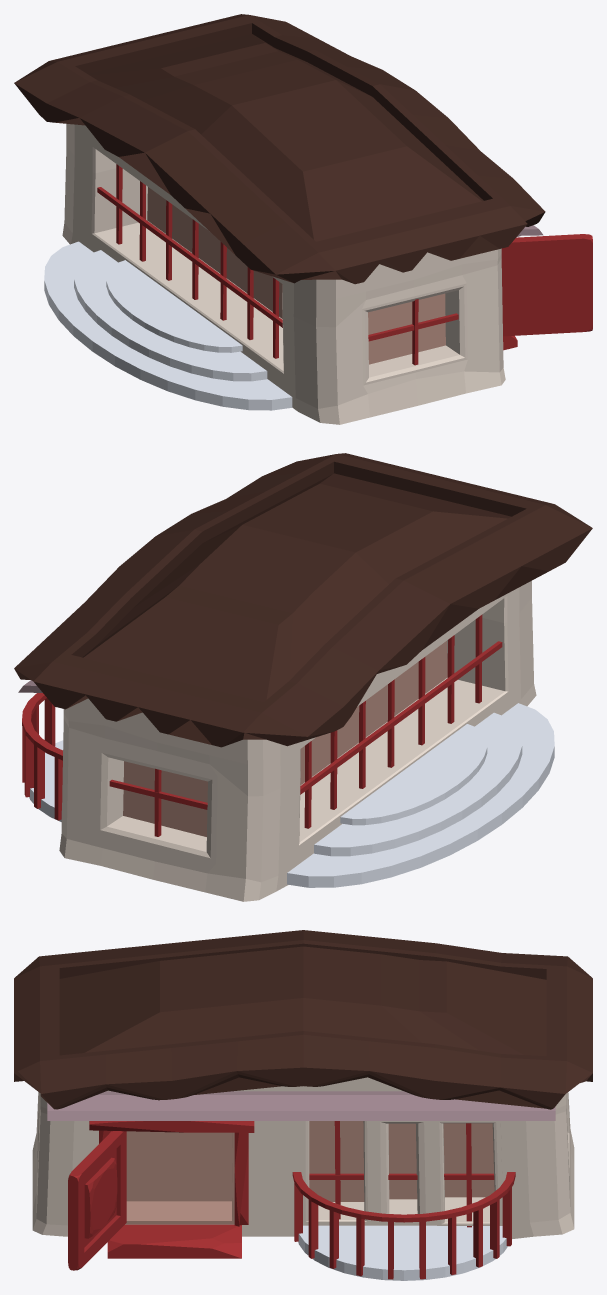
Rendered from house2.fbx.
3 views of the same model, one above another, from view 1: azimuth 30°, elevation 25°; view 2: azimuth 150°, elevation 25°; view 3: azimuth 270°, elevation 25° (orthographic). The views are drawn at different scales.
Visible parts, largest first — view 1: Cube; view 2: Cube; view 3: Cube.
Boxes of the visible parts, x1,y1,x2,y2 form: Cube: (14,14,592,424); Cube: (14,453,592,901); Cube: (14,930,592,1280).
Size of the model in its own units: 741 by 401 by 956.
